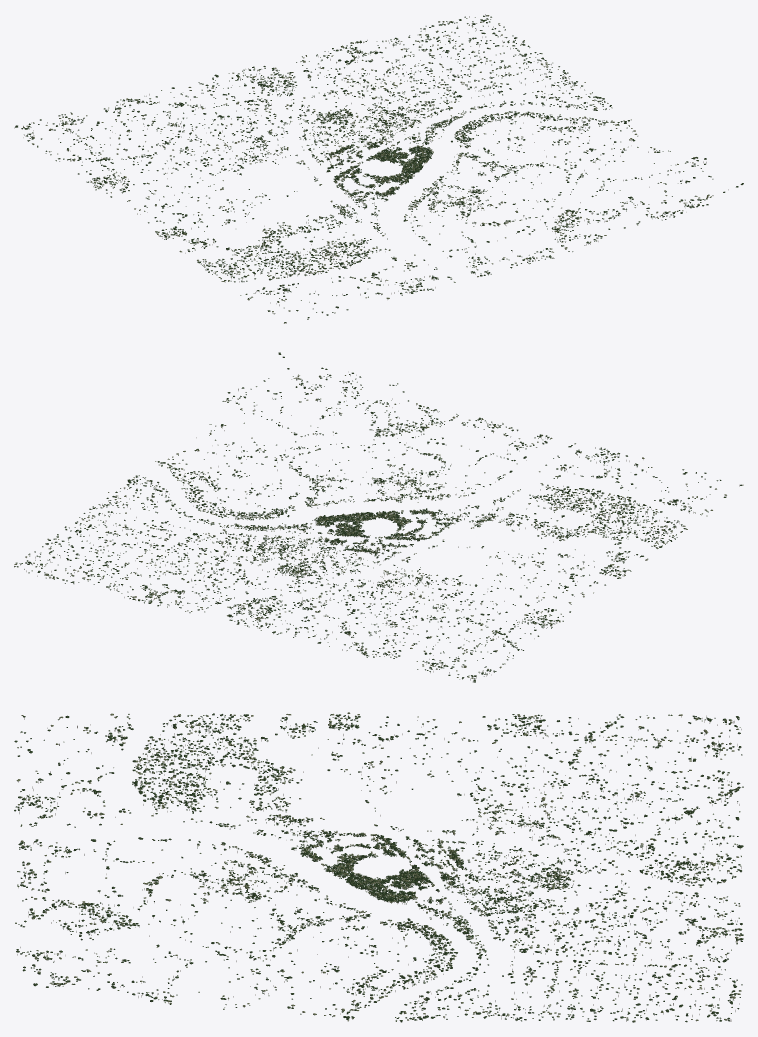
The model's file is riverway_backdrop_part2.glb.
3 renders of one model, top to bottom at view 1: azimuth 30°, elevation 25°; view 2: azimuth 150°, elevation 25°; view 3: azimuth 270°, elevation 25°, orthographic. The views are drawn at different scales.
Visible parts, largest first — view 1: bg_trees_joined_s08, bg_trees_joined_s13, bg_trees_joined_s12, bg_trees_joined_s14, bg_trees_joined_s15, bg_trees_joined_s09, bg_trees_joined_s10, bg_trees_joined_s05, bg_trees_joined_s11, bg_trees_joined_s04, bg_trees_joined_s02, bg_trees_joined_s06 (+3 smaller); view 2: bg_trees_joined_s08, bg_trees_joined_s13, bg_trees_joined_s12, bg_trees_joined_s14, bg_trees_joined_s15, bg_trees_joined_s10, bg_trees_joined_s09, bg_trees_joined_s05, bg_trees_joined_s11, bg_trees_joined_s04, bg_trees_joined_s02, bg_trees_joined_s06 (+3 smaller); view 3: bg_trees_joined_s08, bg_trees_joined_s13, bg_trees_joined_s12, bg_trees_joined_s14, bg_trees_joined_s09, bg_trees_joined_s15, bg_trees_joined_s10, bg_trees_joined_s05, bg_trees_joined_s04, bg_trees_joined_s11, bg_trees_joined_s02, bg_trees_joined_s06 (+4 smaller).
Boxes of the visible parts, left/top/right/bottom form: bg_trees_joined_s08: left=155, top=199, right=346, bottom=323; bg_trees_joined_s13: left=248, top=16, right=475, bottom=121; bg_trees_joined_s12: left=417, top=14, right=612, bottom=134; bg_trees_joined_s14: left=14, top=69, right=315, bottom=153; bg_trees_joined_s15: left=21, top=128, right=266, bottom=223; bg_trees_joined_s09: left=284, top=220, right=517, bottom=323; bg_trees_joined_s10: left=456, top=184, right=737, bottom=265; bg_trees_joined_s05: left=320, top=114, right=415, bottom=161; bg_trees_joined_s11: left=498, top=117, right=743, bottom=194; bg_trees_joined_s04: left=388, top=117, right=478, bottom=163; bg_trees_joined_s02: left=393, top=169, right=492, bottom=211; bg_trees_joined_s06: left=260, top=126, right=370, bottom=165; bg_trees_joined_s08: left=497, top=484, right=743, bottom=578; bg_trees_joined_s13: left=24, top=541, right=313, bottom=624; bg_trees_joined_s12: left=14, top=475, right=260, bottom=567; bg_trees_joined_s14: left=244, top=574, right=475, bottom=682; bg_trees_joined_s15: left=413, top=555, right=605, bottom=679; bg_trees_joined_s10: left=288, top=367, right=511, bottom=477; bg_trees_joined_s09: left=465, top=427, right=741, bottom=510; bg_trees_joined_s05: left=258, top=528, right=365, bottom=573; bg_trees_joined_s11: left=155, top=352, right=344, bottom=496; bg_trees_joined_s04: left=252, top=505, right=363, bottom=539; bg_trees_joined_s02: left=351, top=473, right=436, bottom=519; bg_trees_joined_s06: left=321, top=535, right=409, bottom=581; bg_trees_joined_s08: left=22, top=712, right=379, bottom=812; bg_trees_joined_s13: left=502, top=866, right=743, bottom=1013; bg_trees_joined_s12: left=379, top=920, right=731, bottom=1022; bg_trees_joined_s14: left=504, top=716, right=743, bottom=868; bg_trees_joined_s09: left=14, top=715, right=251, bottom=865; bg_trees_joined_s15: left=379, top=714, right=729, bottom=815; bg_trees_joined_s10: left=15, top=863, right=232, bottom=987; bg_trees_joined_s05: left=399, top=866, right=548, bottom=917; bg_trees_joined_s04: left=379, top=874, right=491, bottom=938; bg_trees_joined_s11: left=33, top=918, right=379, bottom=1021; bg_trees_joined_s02: left=214, top=865, right=359, bottom=911; bg_trees_joined_s06: left=403, top=816, right=544, bottom=867.
Bounding box in the file's own units: 3013 × 165 × 3017.
Materials: 1 (1 with a texture image).
